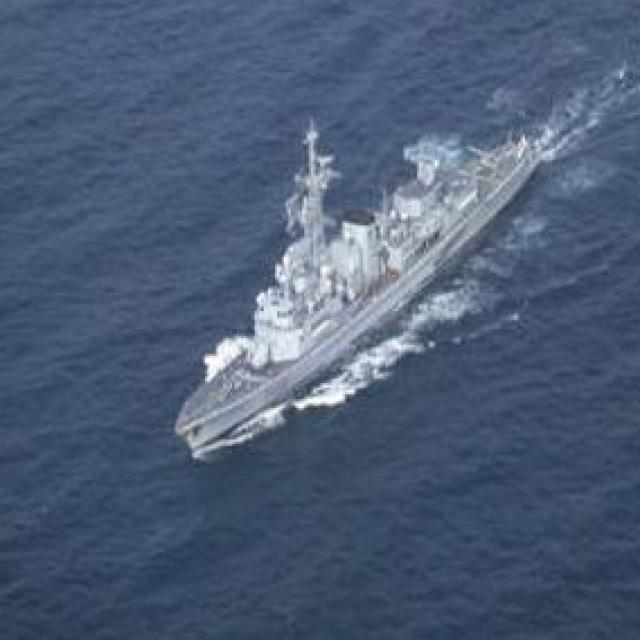navalvessels: (171, 117, 549, 460)
